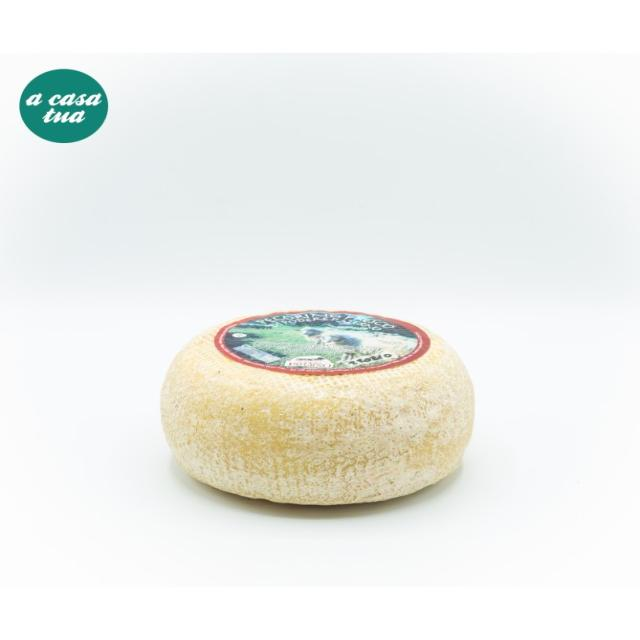Cheese: (154, 292, 496, 521)
